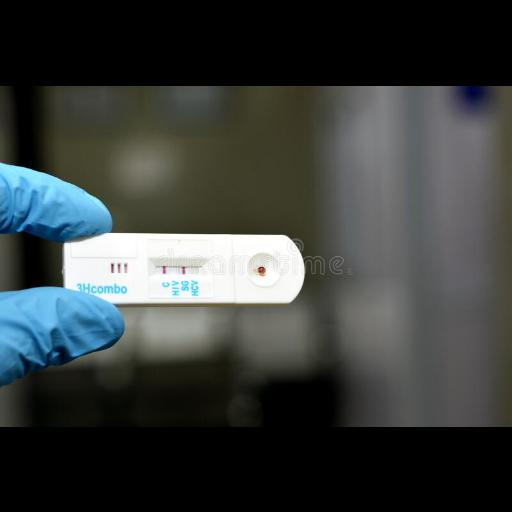Pos: (63, 230, 299, 300)
